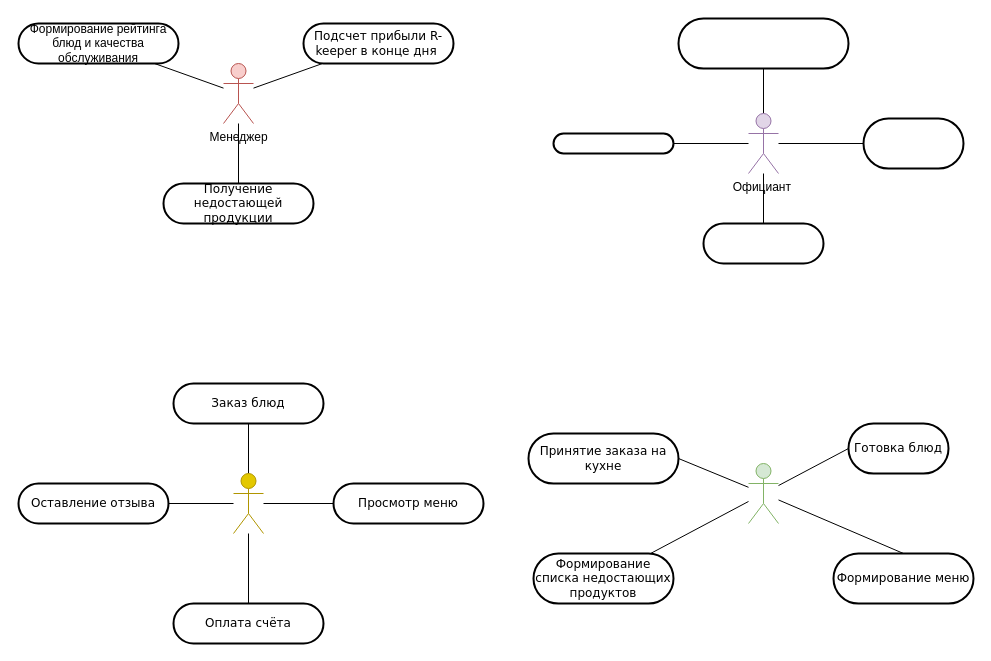
This 991x661 diagram has some shape labels left out. Each missing label, with the centre of its shape:
Клиент: (248,503)
Обслуживание клиента в порядке электронной очереди: (763,43)
Открытие счёта: (613,143)
Передача заказа на кухню: (913,143)
Формирование заказа: (763,243)
Шеф-повар: (763,493)
